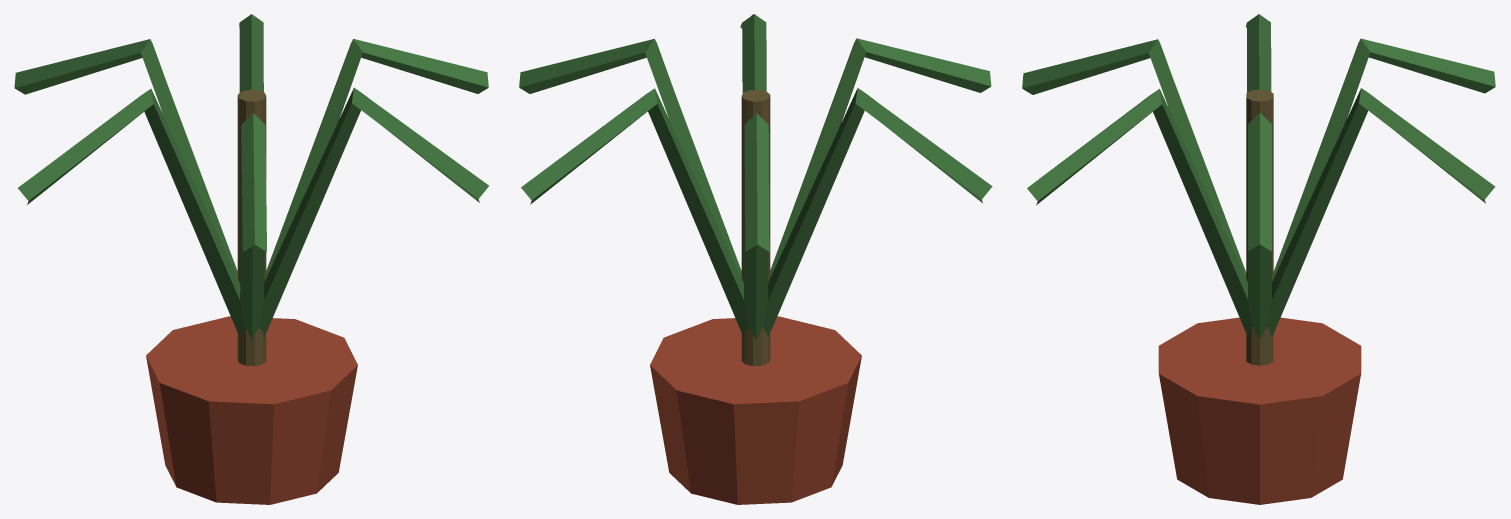
File: chau_cau.glb
3 renders of one model, left to right at view 1: azimuth 30°, elevation 25°; view 2: azimuth 150°, elevation 25°; view 3: azimuth 270°, elevation 25°, orthographic.
Visible parts, largest first — view 1: chau_cau; view 2: chau_cau; view 3: chau_cau.
Boxes of the visible parts, bbox=[...] form: chau_cau: bbox=[14, 14, 488, 504]; chau_cau: bbox=[519, 14, 992, 504]; chau_cau: bbox=[1022, 14, 1495, 504].
Bounding box in the file's own units: 1.12 × 0.9234 × 0.9811.
